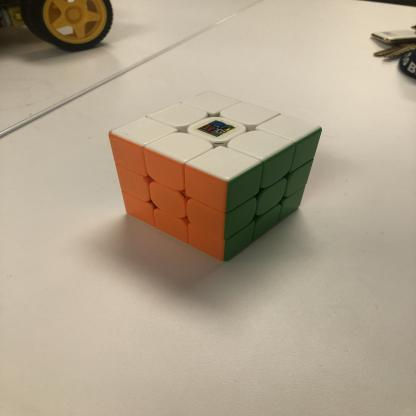SolvedCube: (83, 82, 339, 273)
